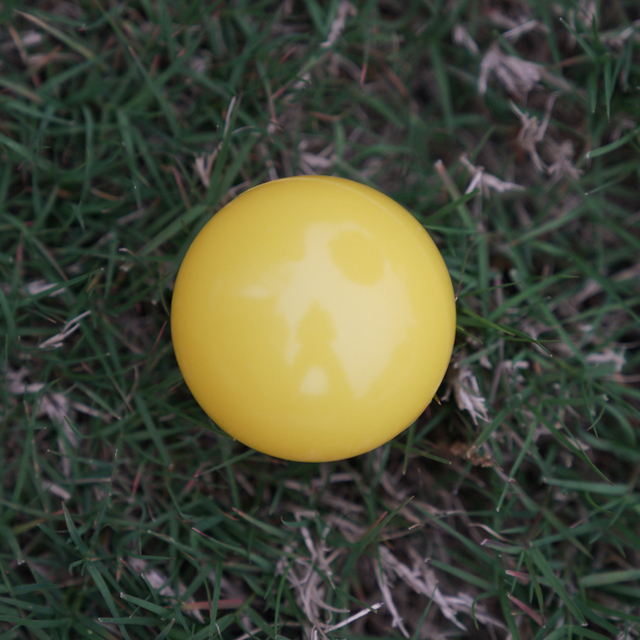Ball: (167, 174, 463, 458)
